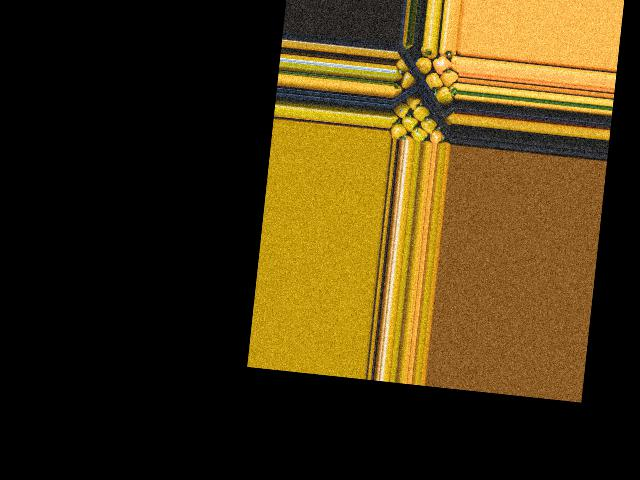bell_pepper: (387, 119, 405, 139)
